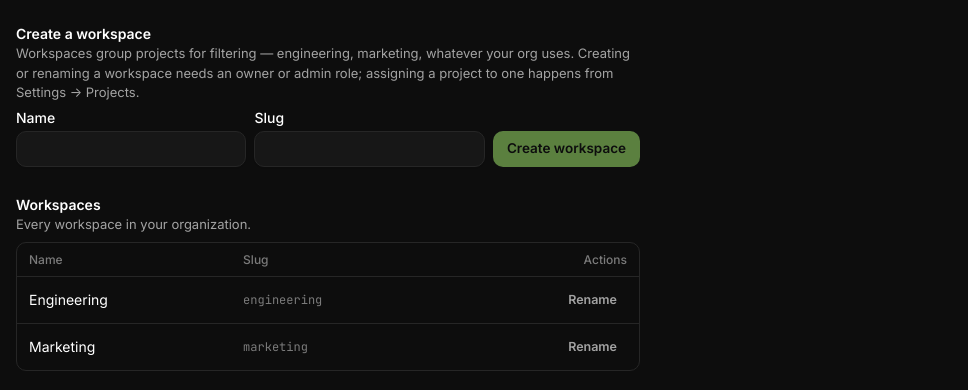
renaming a team › PATCHes the new name and shows it without a page reload
Step 1. Click the 1st button "Rename" → point(593, 300), box [558,285,627,315]
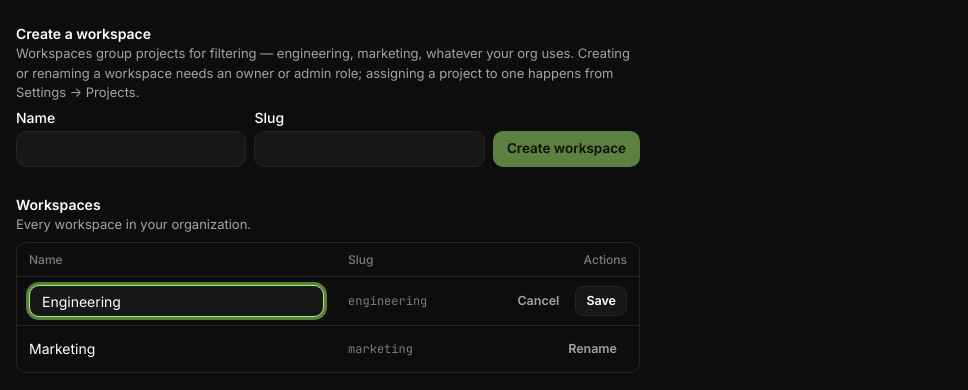
Step 2. Replace the text in the field named "Rename Engineering" with "Core Engineering" → point(177, 301), box [29,285,324,317]
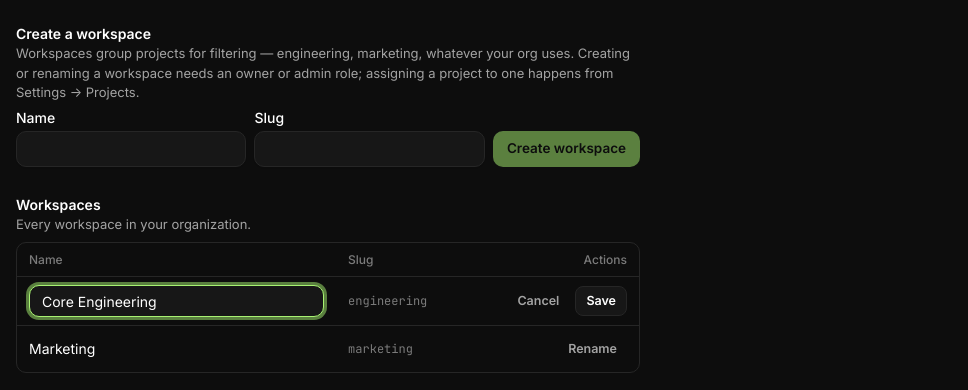
Step 3. Click the button "Save" → point(601, 301), box [575,286,627,316]
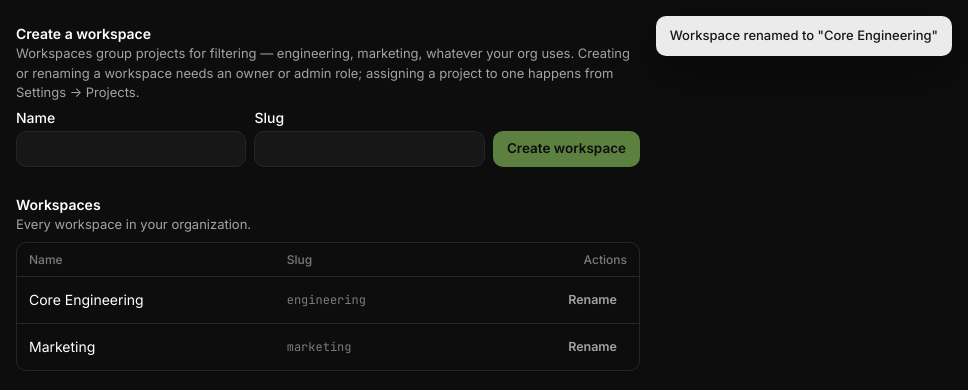
Result: the row "Core Engineering engineering Rename" is shown at [17,277,639,324]
